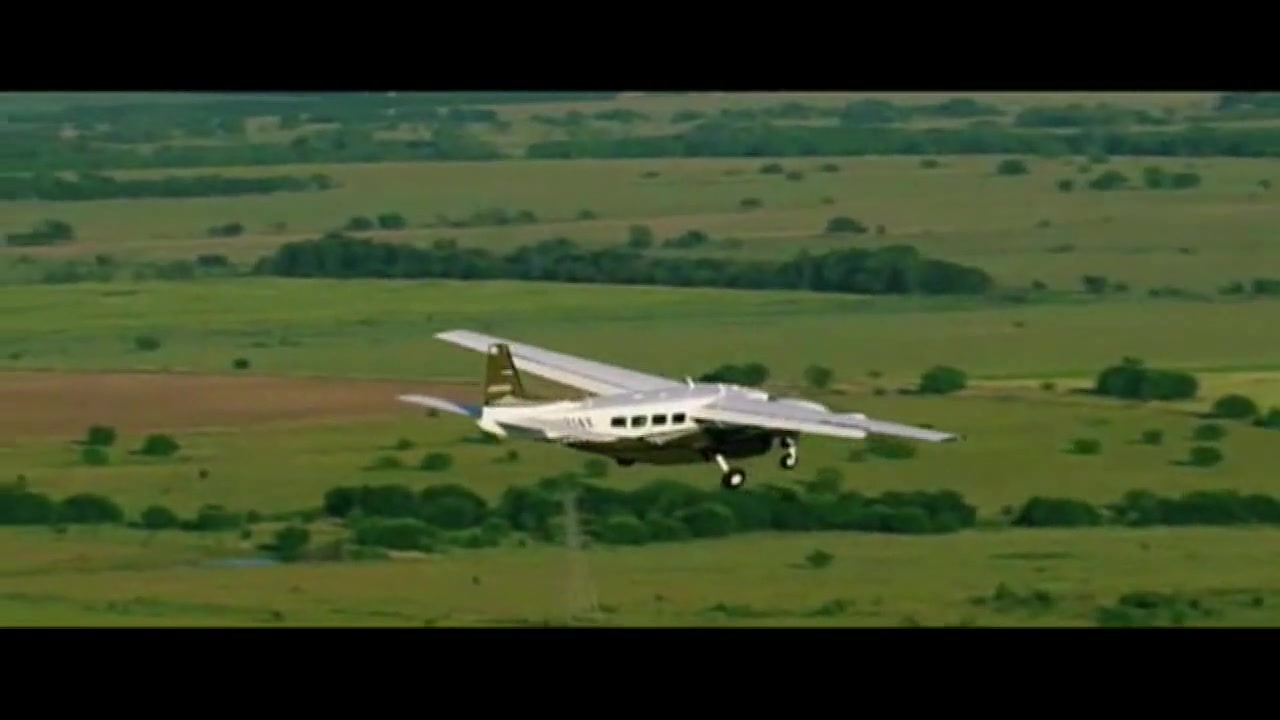aeroplane: (398, 327, 966, 491)
